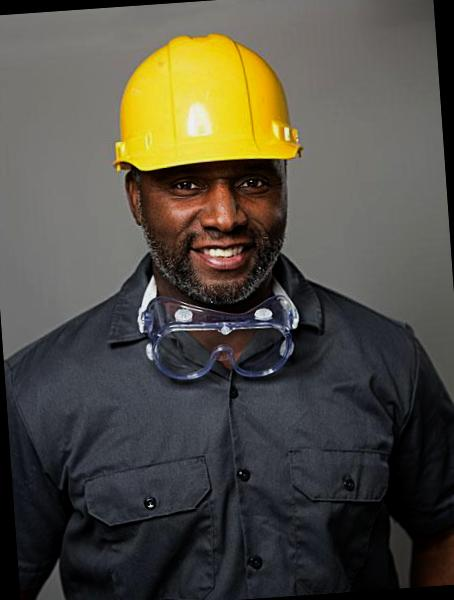helmet: (98, 24, 304, 180)
no_vest: (8, 279, 454, 595)
person: (1, 7, 454, 600)
